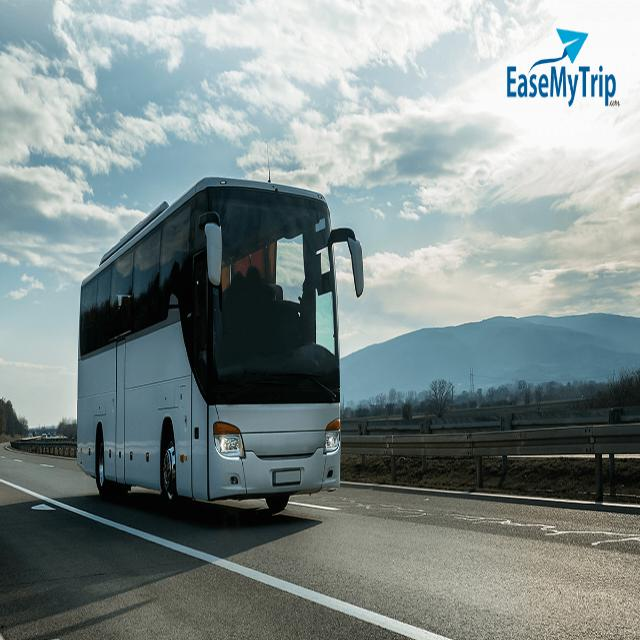bus: (78, 176, 362, 520)
